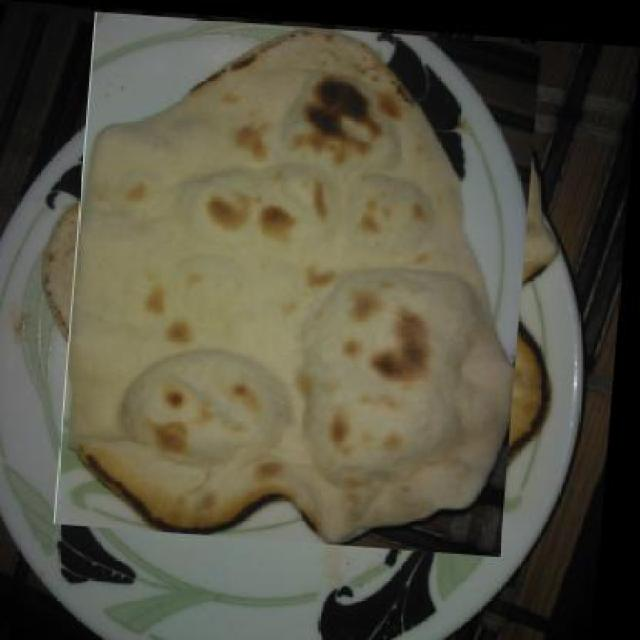chapati: (47, 27, 559, 536)
